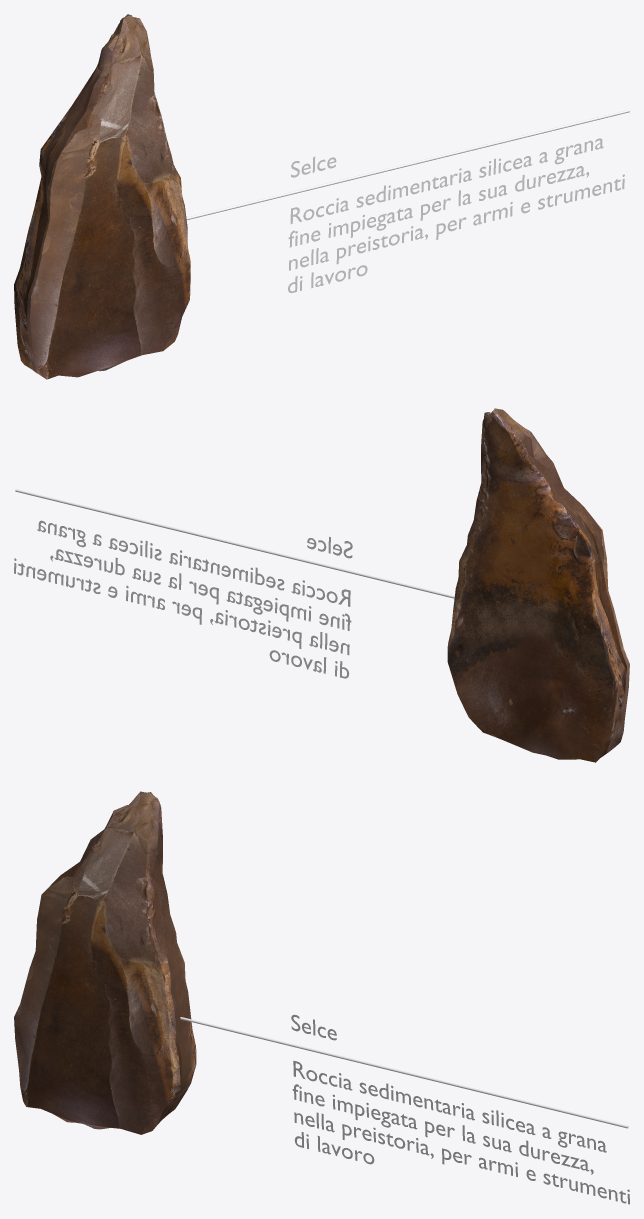
The model's file is Selce.gltf.
3 views of the same model, one above another, from view 1: azimuth 30°, elevation 25°; view 2: azimuth 150°, elevation 25°; view 3: azimuth 330°, elevation 25° (orthographic).
Visible parts, largest first — view 1: Cubo_1, Text, riga; view 2: Cubo_1, Text, riga; view 3: Cubo_1, Text, riga.
Boxes of the visible parts, x1=… form: Cubo_1: x1=14, y1=14, x2=190, y2=379; Text: x1=288, y1=138, x2=624, y2=292; riga: x1=186, y1=110, x2=629, y2=219; Cubo_1: x1=447, y1=408, x2=629, y2=762; Text: x1=14, y1=520, x2=352, y2=678; riga: x1=15, y1=489, x2=454, y2=598; Cubo_1: x1=14, y1=791, x2=196, y2=1134; Text: x1=291, y1=1014, x2=629, y2=1204; riga: x1=180, y1=1017, x2=628, y2=1128.
Size of the model in its own units: 5.36 by 2.87 by 0.3863.
2 materials, 1 textured.
